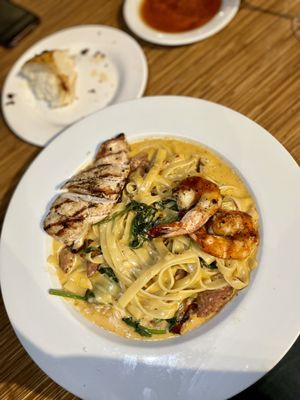sushi: (120, 0, 243, 47)
